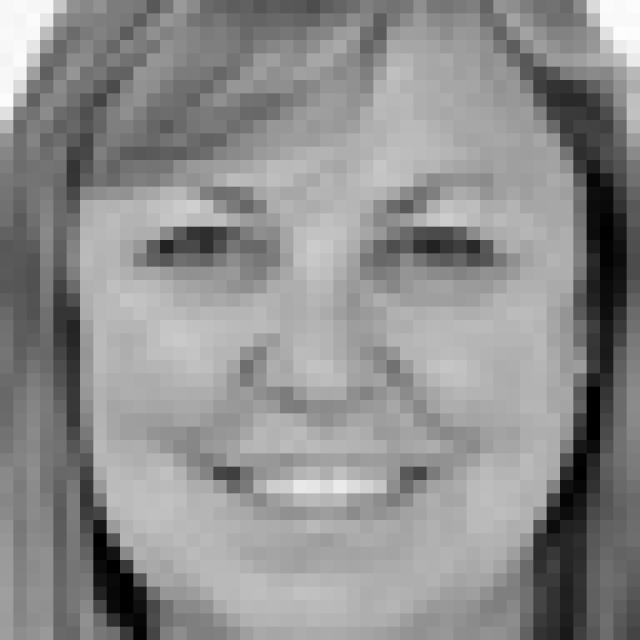happy: (129, 167, 526, 560)
